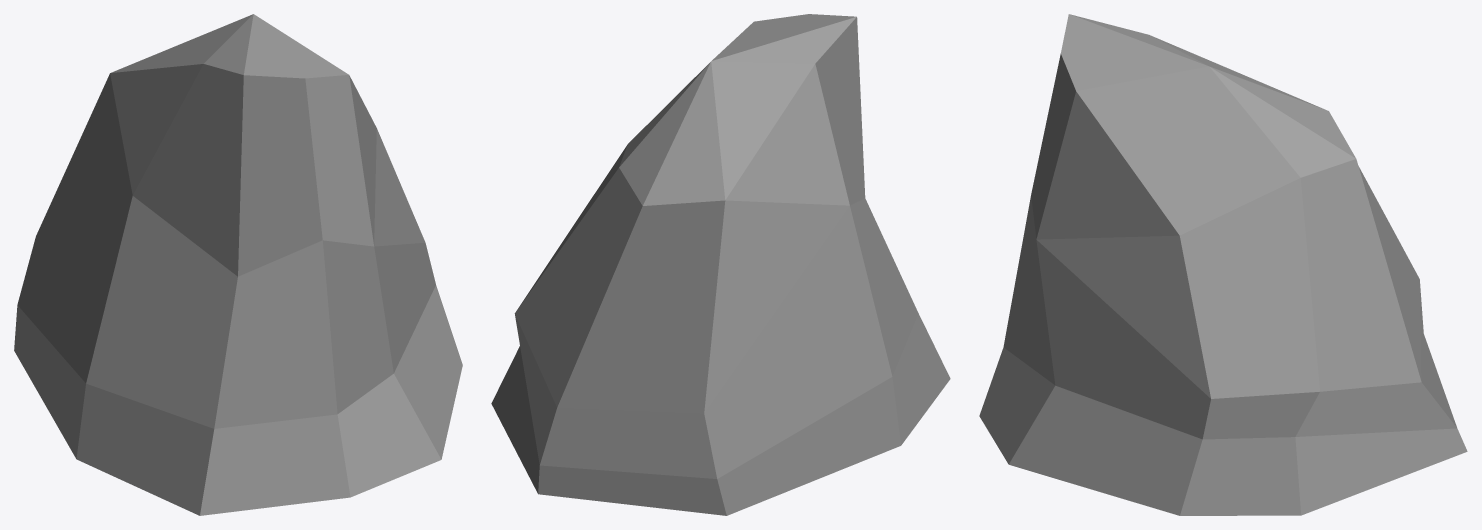
File: rock05__mesh_LOD.fbx
3 views of the same model, side by side, from view 1: azimuth 30°, elevation 25°; view 2: azimuth 150°, elevation 25°; view 3: azimuth 270°, elevation 25° (orthographic). The views are drawn at different scales.
Visible parts, largest first — view 1: rock05__mesh_LOD0; view 2: rock05__mesh_LOD0; view 3: rock05__mesh_LOD0.
Part boxes in pixels (x1,y1,x2,y2): rock05__mesh_LOD0: (14,14,462,515); rock05__mesh_LOD0: (491,14,950,515); rock05__mesh_LOD0: (979,14,1467,515).
Size of what is drawn, in the model's own units: 697 by 692 by 816.
Materials: 1 (1 with a texture image).
